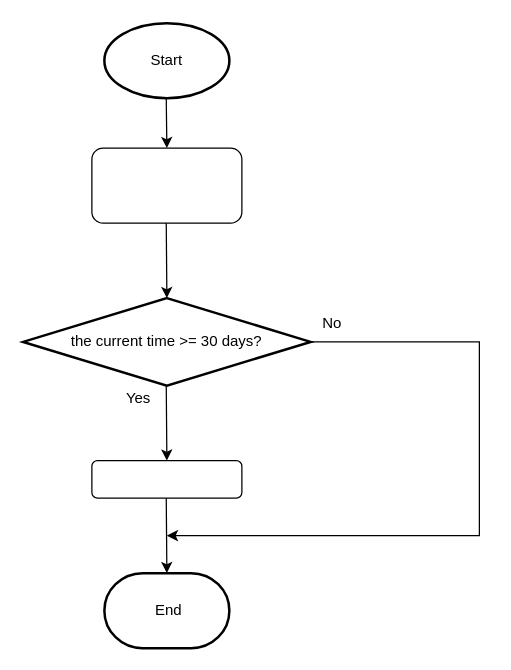
Some shapes in this 511 by 670 pixel diagram are drawn without their labels. The shapes that lost their labels are listed below. From the top down, each one's box as (x1, y1, x2, y2) in pixels, then its label:
(91, 147, 242, 223): Get current time
(91, 459, 242, 498): Reset the system
